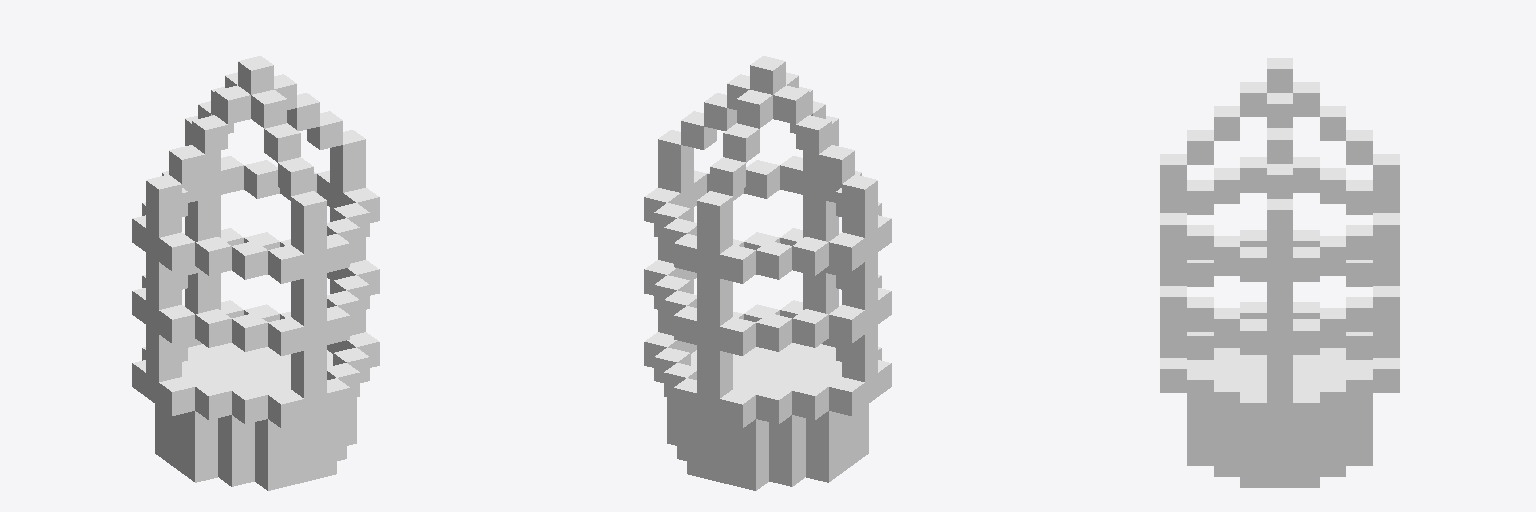
Rendered from GoalLightShell.obj.
3 renders of one model, left to right at view 1: azimuth 30°, elevation 25°; view 2: azimuth 150°, elevation 25°; view 3: azimuth 270°, elevation 25°, orthographic.
Size of the model in its own units: 9 by 16 by 9.